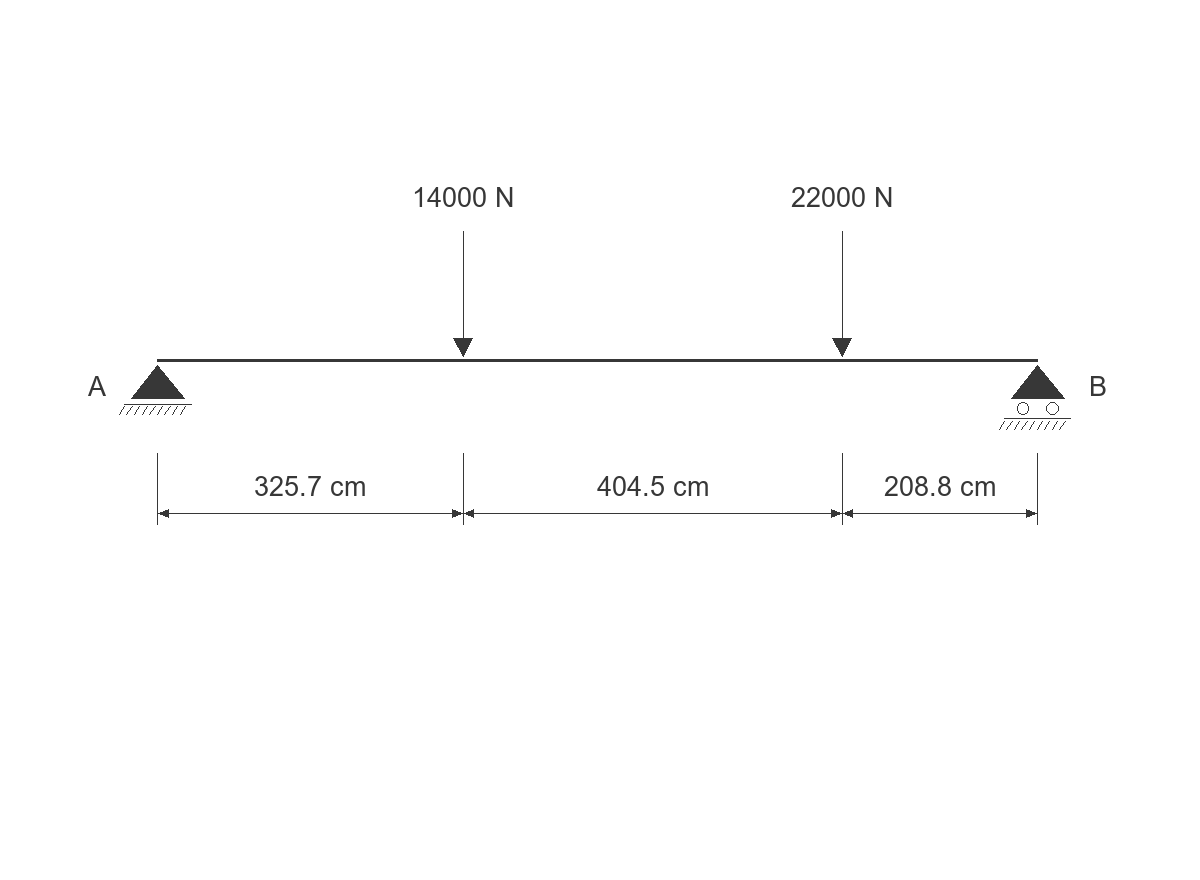pin_support: (119, 365, 192, 415)
point_load: (453, 231, 473, 357), (832, 231, 852, 357)
roller_support: (999, 365, 1071, 430)
